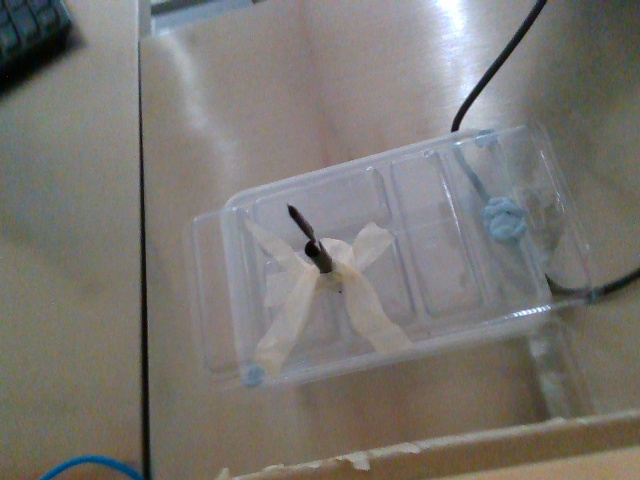test_strip: (283, 203, 320, 252)
